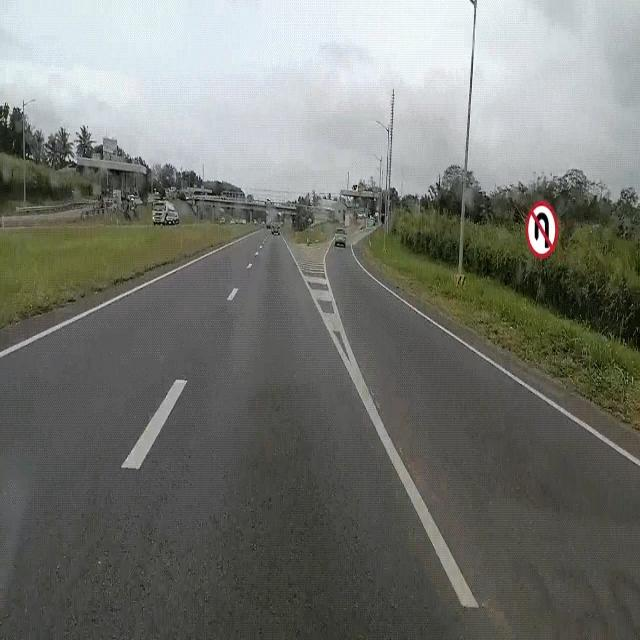Demi-Tour-Interdit: (525, 195, 561, 263)
